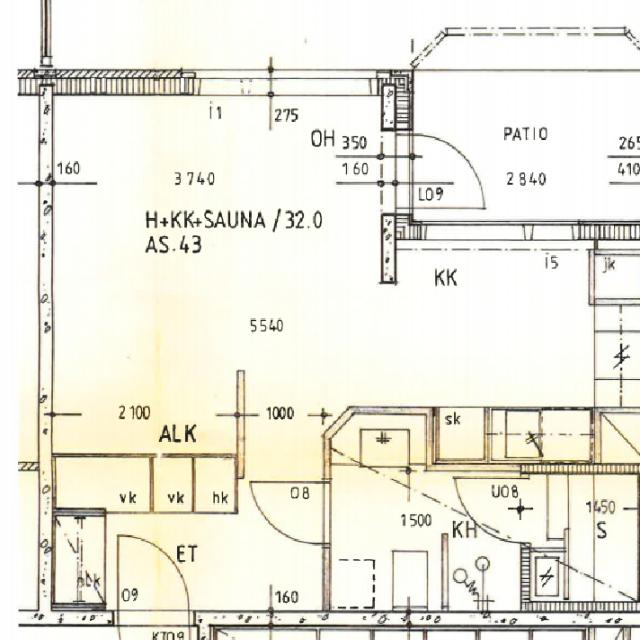door: (117, 534, 189, 625), (395, 134, 480, 207), (459, 477, 528, 542), (263, 481, 330, 543)
